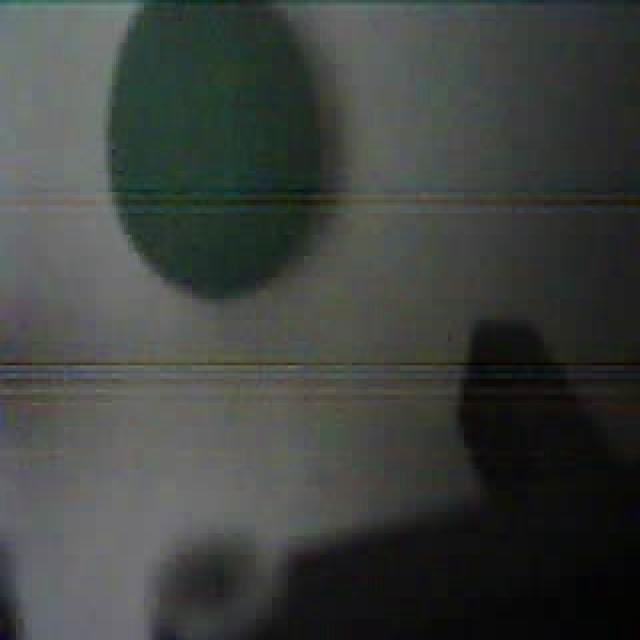green_ball: (102, 0, 330, 304)
